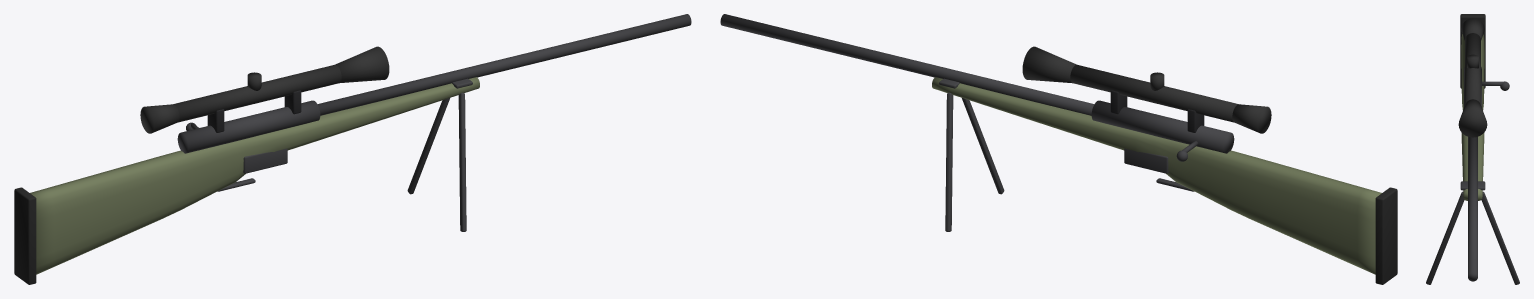
3 renders of one model, left to right at view 1: azimuth 30°, elevation 25°; view 2: azimuth 150°, elevation 25°; view 3: azimuth 270°, elevation 25°, orthographic. The views are drawn at different scales.
Visible parts, largest first — view 1: SM_L96; view 2: SM_L96; view 3: SM_L96.
Part boxes in pixels (<box>): SM_L96: <box>14,14,691,284</box>; SM_L96: <box>720,14,1397,284</box>; SM_L96: <box>1426,14,1519,284</box>.
Size of the model in its own units: 1.21 by 0.3166 by 0.1761.
